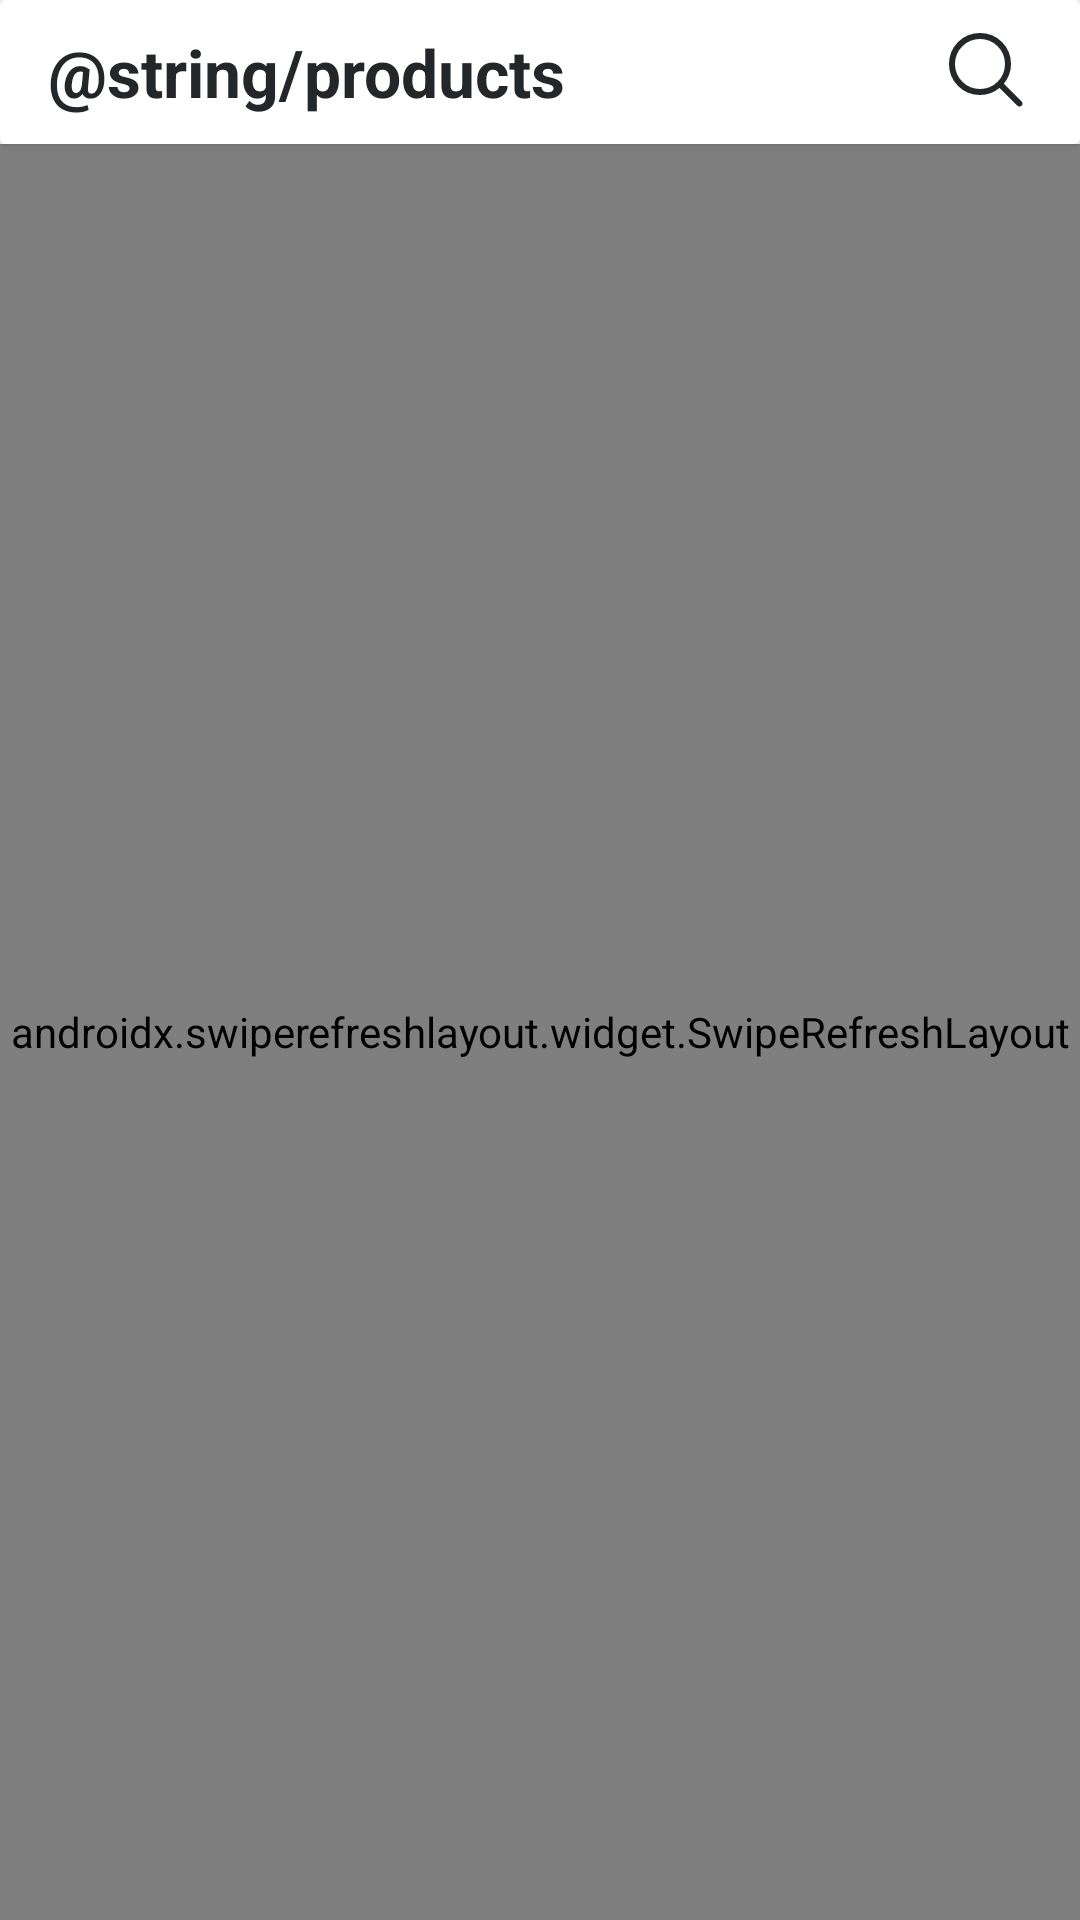

Named icons in this screenshot (1080*1920) and their centers, point (x, y):
search: point (986, 70)
